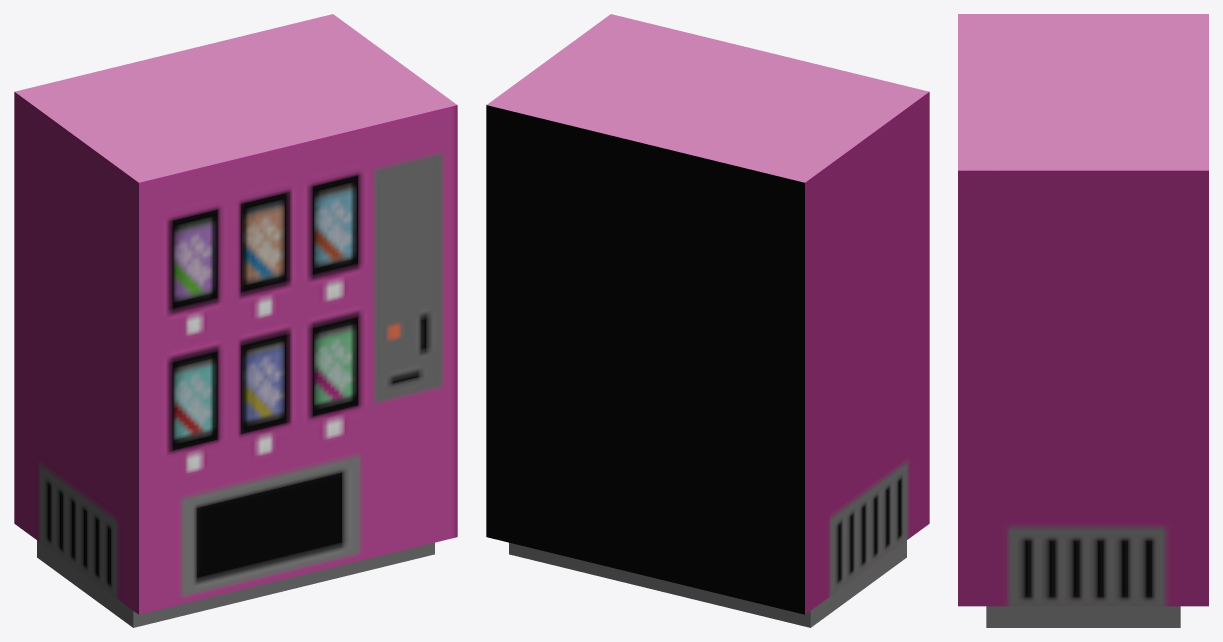
The model's file is SM_VendingMachine_Small_03.fbx.
3 renders of one model, left to right at view 1: azimuth 30°, elevation 25°; view 2: azimuth 150°, elevation 25°; view 3: azimuth 270°, elevation 25°, orthographic.
Parts seen in each view (by area): view 1: SM_VendingMachine_Small_03; view 2: SM_VendingMachine_Small_03; view 3: SM_VendingMachine_Small_03.
Boxes of the visible parts, x1,y1,x2,y2 form: SM_VendingMachine_Small_03: [14, 14, 457, 627]; SM_VendingMachine_Small_03: [486, 14, 929, 627]; SM_VendingMachine_Small_03: [958, 14, 1208, 627].
Size of the model in its own units: 1.52 by 2.09 by 1.03.
